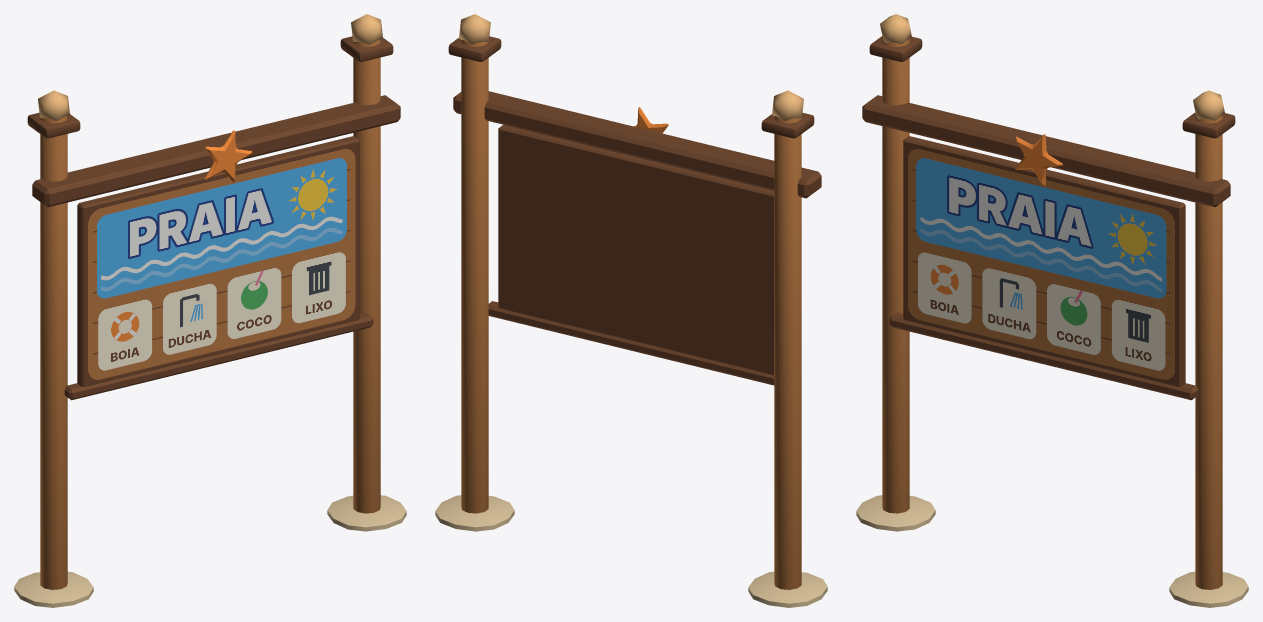
The model's file is placa_praia.glb.
3 views of the same model, side by side, from view 1: azimuth 30°, elevation 25°; view 2: azimuth 150°, elevation 25°; view 3: azimuth 330°, elevation 25° (orthographic).
Parts seen in each view (by area): view 1: placa_praia; view 2: placa_praia; view 3: placa_praia.
Boxes of the visible parts, box(x1,y1,x2,y2) form: placa_praia: box(14, 14, 406, 607); placa_praia: box(435, 14, 827, 607); placa_praia: box(856, 14, 1248, 607).
Size of the model in its own units: 2.18 by 2.77 by 0.3843.
2 materials, 2 textured.
